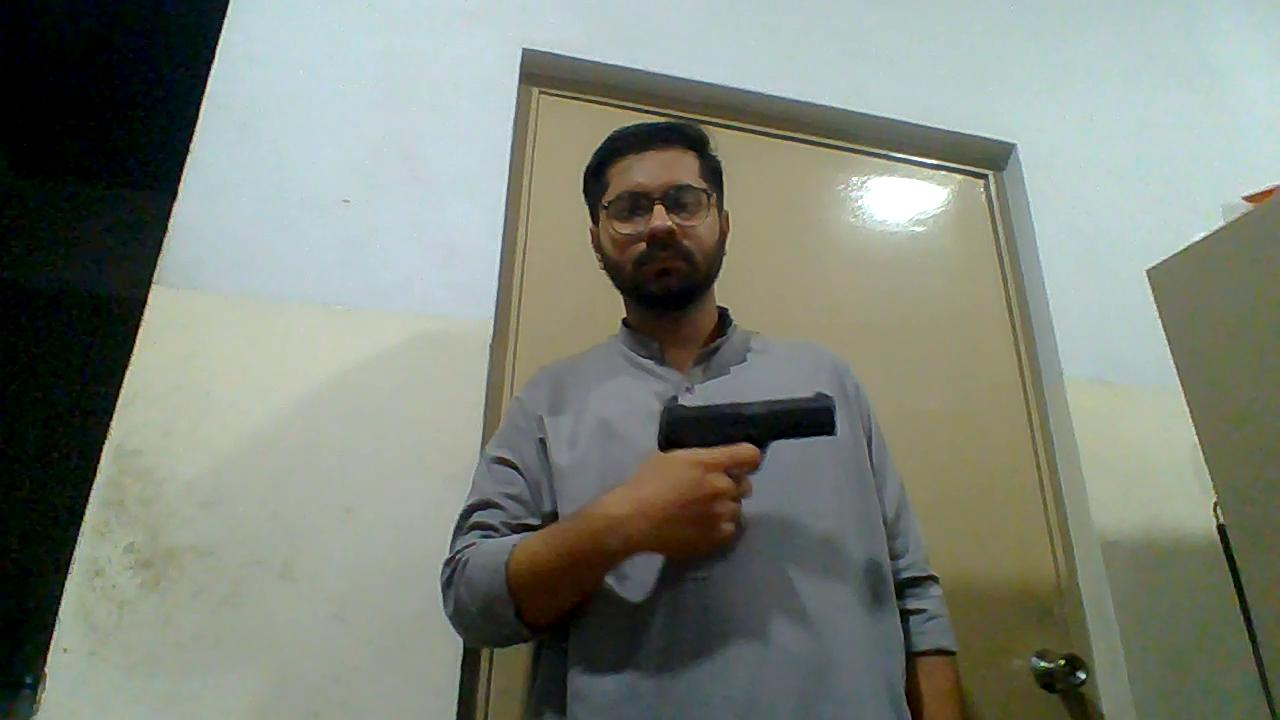criminal: (439, 117, 966, 720)
weapon: (656, 392, 840, 469)
